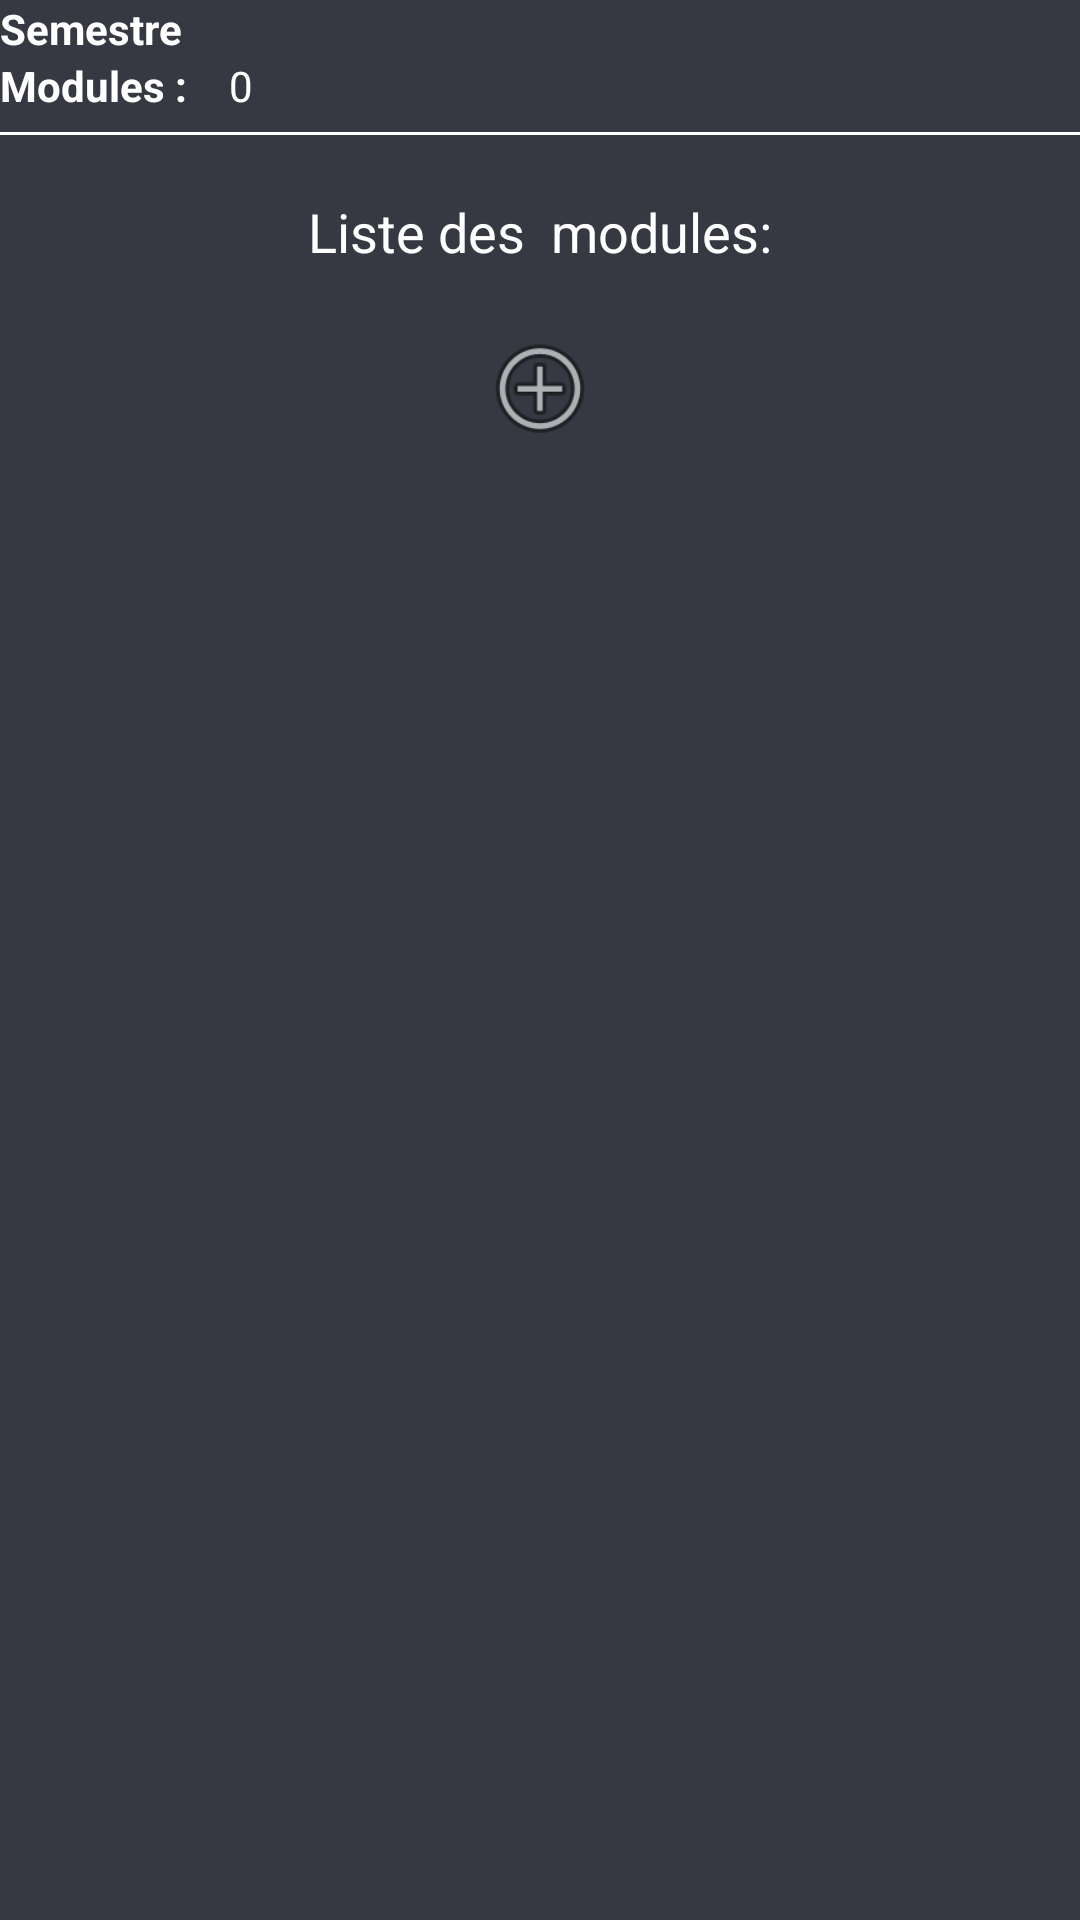

Icon bounding boxes for this 1080px x 1920px phone screenshot, format (x1, y1, x2, y2):
add: (497, 346, 583, 432)
